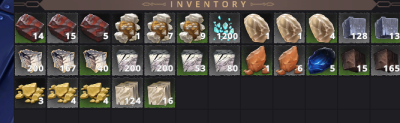cinnabar mineral: (78, 12, 111, 44), (14, 12, 45, 43), (46, 12, 77, 43)
dolomite mineral: (176, 12, 208, 44), (112, 12, 143, 43), (144, 12, 175, 43)
ethereal dust: (208, 12, 240, 44)
granite stone: (337, 13, 369, 43), (370, 12, 400, 44)
halite mineral: (241, 12, 273, 43), (274, 12, 305, 44), (306, 13, 337, 44)
limestone stone: (78, 45, 111, 76), (46, 45, 77, 75), (15, 45, 45, 75)
marble stone: (112, 45, 143, 76), (176, 46, 208, 76), (144, 45, 175, 75), (209, 46, 240, 76)
nitre mineral: (273, 45, 305, 75), (241, 45, 272, 75)
slate stone: (339, 45, 370, 75), (371, 45, 400, 75)
sulphur mineral: (15, 76, 46, 109), (78, 77, 110, 108), (47, 77, 77, 108)
travertine stone: (144, 76, 174, 107), (111, 78, 142, 107)
